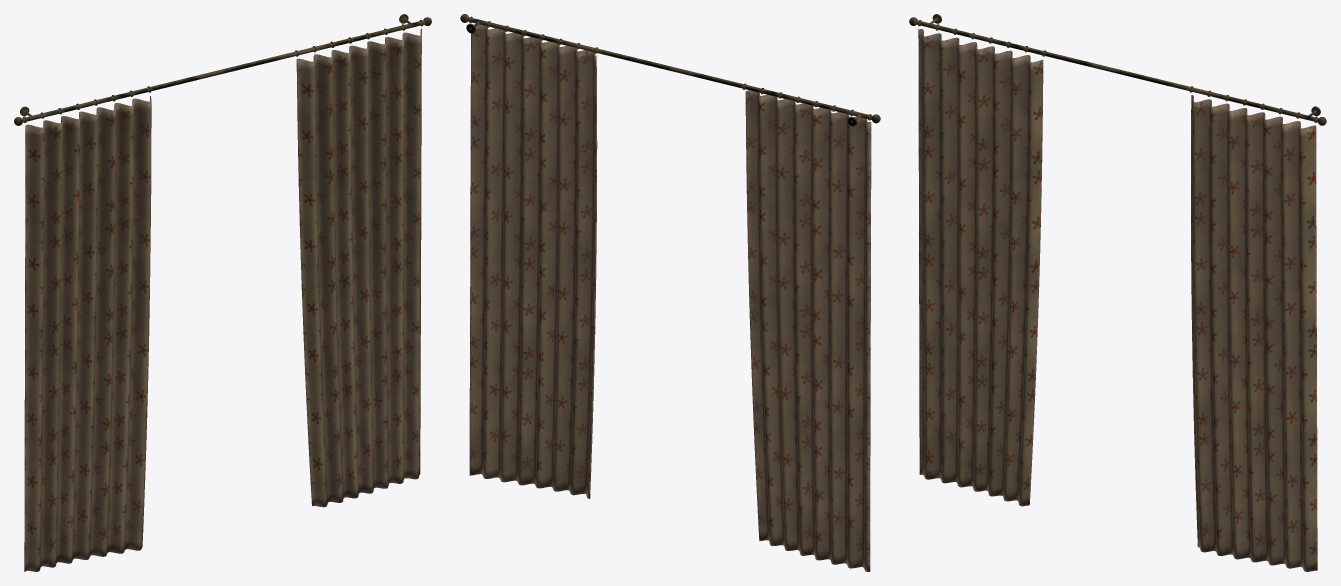
The model's file is Curtains.fbx.
The picture shows the model from 3 angles, left to right: view 1: azimuth 30°, elevation 25°; view 2: azimuth 150°, elevation 25°; view 3: azimuth 330°, elevation 25°; orthographic projection.
Parts seen in each view (by area): view 1: Curtains_Mesh; view 2: Curtains_Mesh; view 3: Curtains_Mesh.
Boxes of the visible parts, <box> form: Curtains_Mesh: <box>14,14,431,571</box>; Curtains_Mesh: <box>460,14,880,571</box>; Curtains_Mesh: <box>909,14,1326,571</box>.
Bounding box in the file's own units: 2.37 × 2.49 × 0.1769.
